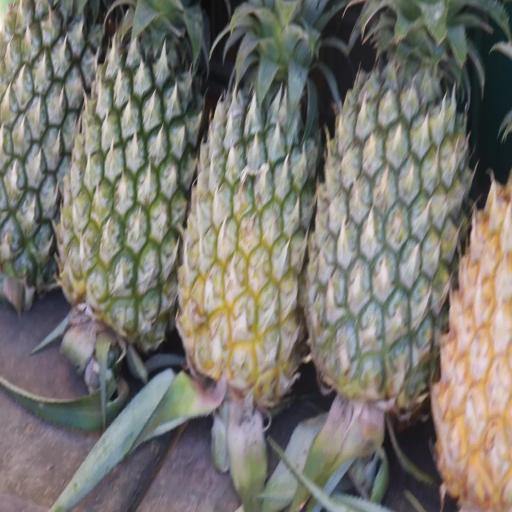------------------------------: (173, 1, 321, 415)
